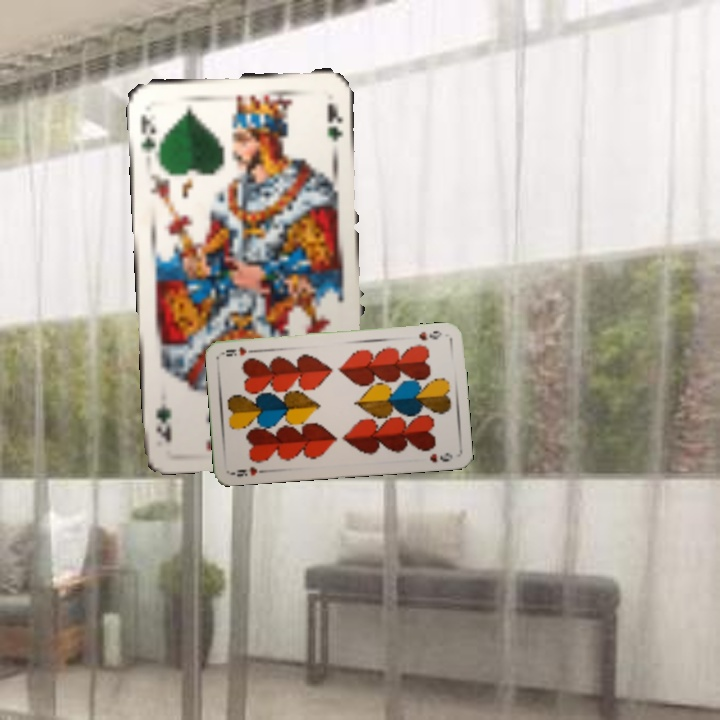GK: (136, 111, 159, 156)
H9: (228, 463, 269, 479), (415, 327, 444, 343)
